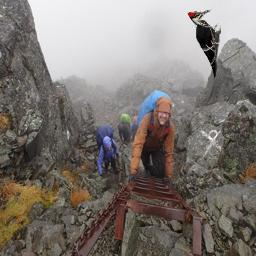Woodpecker: (187, 9, 221, 82)
